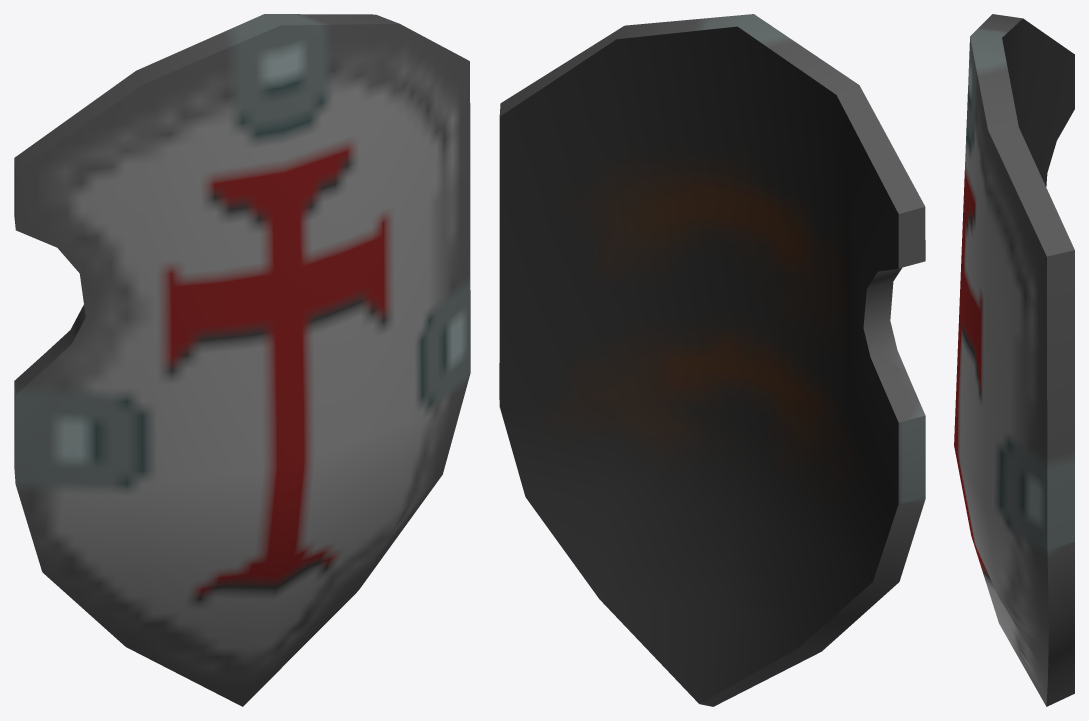
The model's file is ShieldA_02.fbx.
3 views of the same model, side by side, from view 1: azimuth 30°, elevation 25°; view 2: azimuth 150°, elevation 25°; view 3: azimuth 270°, elevation 25° (orthographic). The views are drawn at different scales.
Visible parts, largest first — view 1: ShieldA_02; view 2: ShieldA_02; view 3: ShieldA_02.
Boxes of the visible parts, <box> form: ShieldA_02: <box>14,14,470,706</box>; ShieldA_02: <box>499,14,925,706</box>; ShieldA_02: <box>954,14,1074,706</box>.
Size of the model in its own units: 80.73 by 121 by 19.75.
